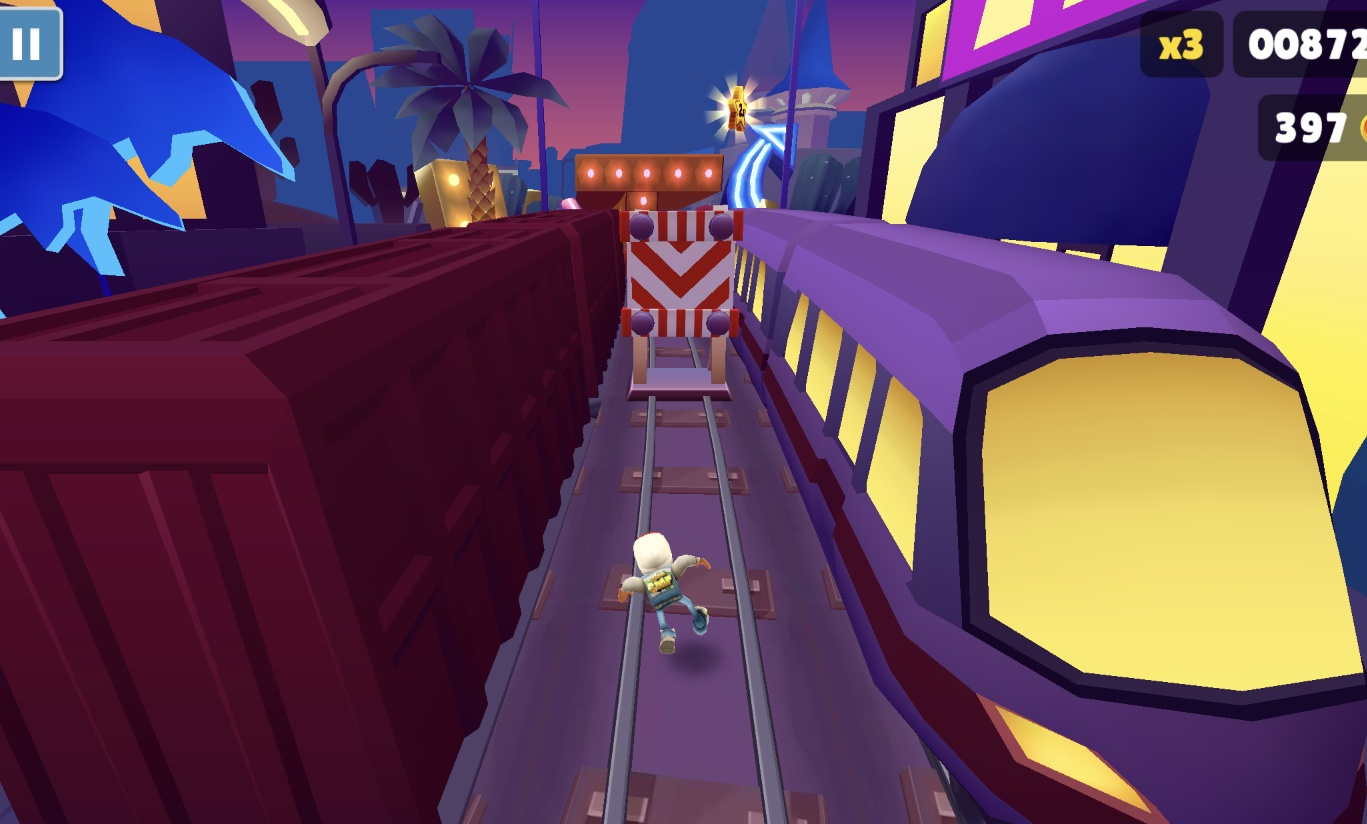overhead_barrier: (618, 206, 745, 403)
pillar: (628, 190, 662, 214)
train: (717, 211, 1367, 824), (0, 204, 632, 824)
